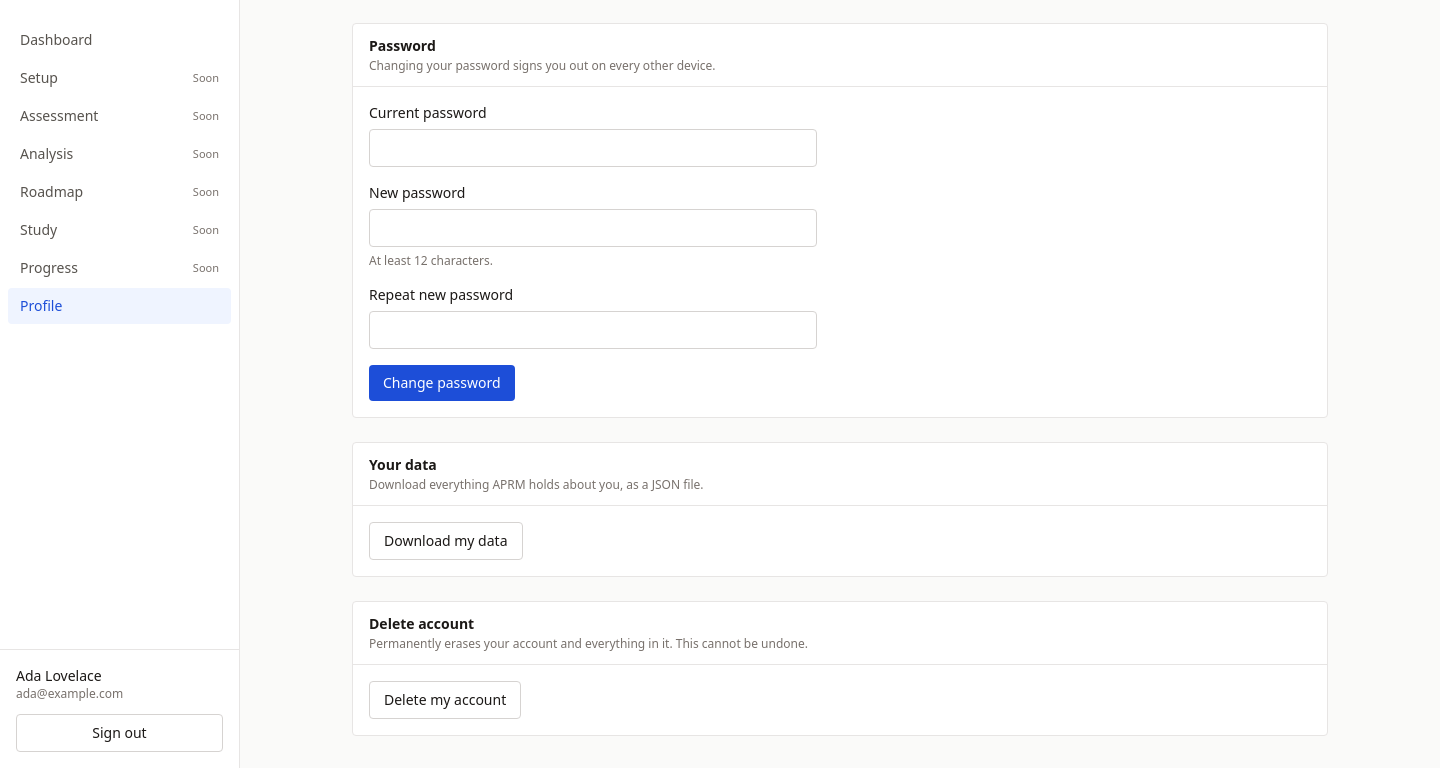
Scenario: ProfilePage › data export › downloads the export as a file
(page scrolled)
Click the button "Download my data": coordinates (446, 541) [369,522,522,560]
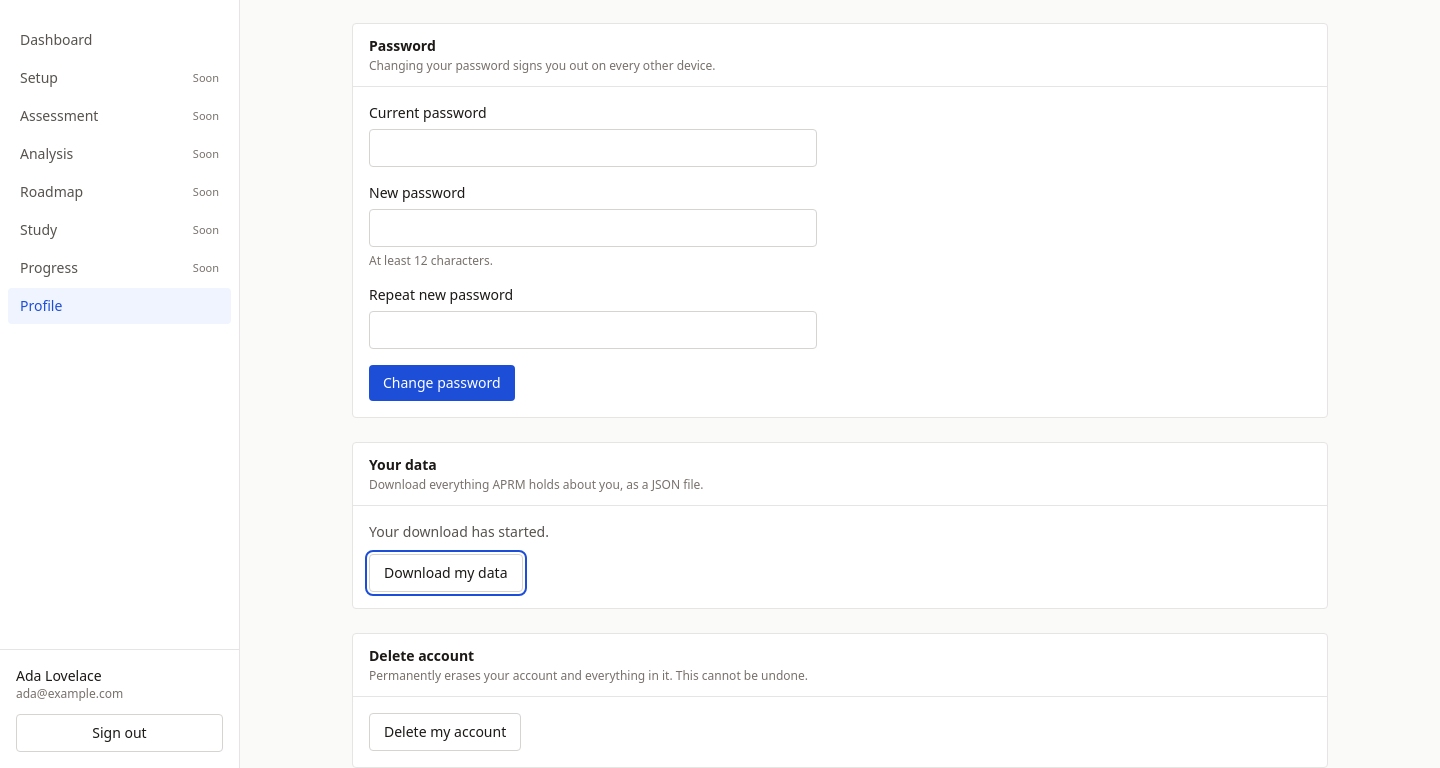
Result: the text "Your download has started." is shown at [369,522,549,542]
